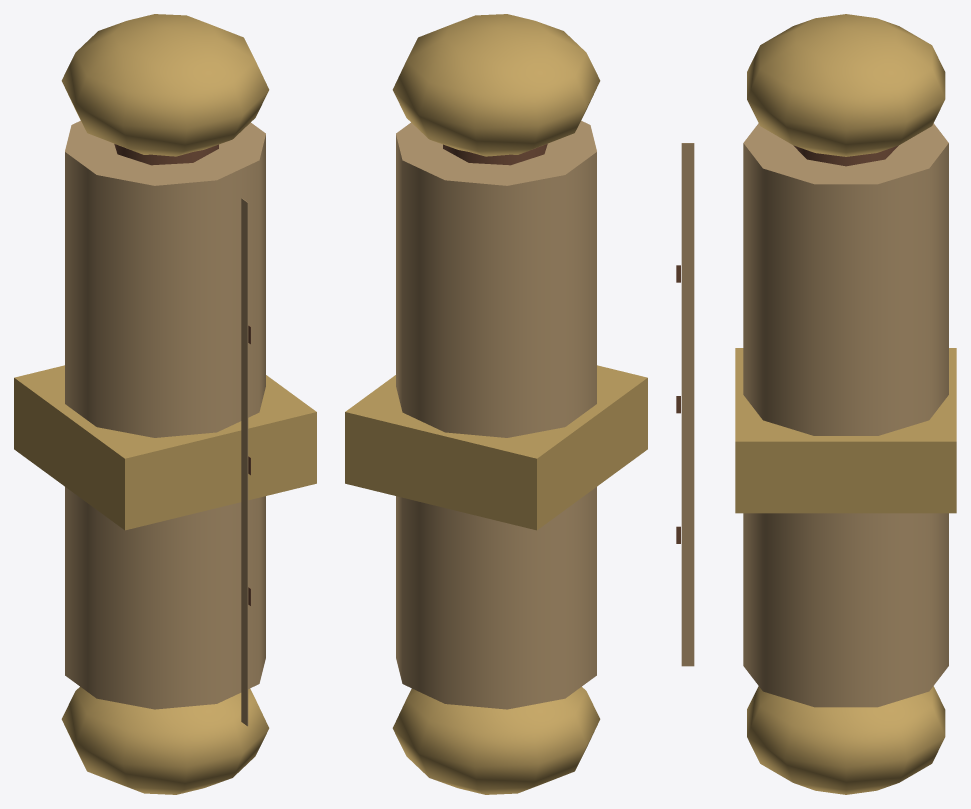
Rendered from scroll-1.glb.
3 renders of one model, left to right at view 1: azimuth 30°, elevation 25°; view 2: azimuth 150°, elevation 25°; view 3: azimuth 270°, elevation 25°, orthographic.
Parts seen in each view (by area): view 1: piece_whole, ReadingSheet; view 2: piece_whole; view 3: piece_whole, ReadingSheet.
Boxes of the visible parts, bbox=[...] form: piece_whole: bbox=[14, 14, 316, 794]; ReadingSheet: bbox=[241, 198, 250, 726]; piece_whole: bbox=[345, 14, 647, 794]; piece_whole: bbox=[735, 14, 956, 794]; ReadingSheet: bbox=[676, 143, 694, 666].
Bounding box in the file's own units: 0.14 × 0.525 × 0.1775.
